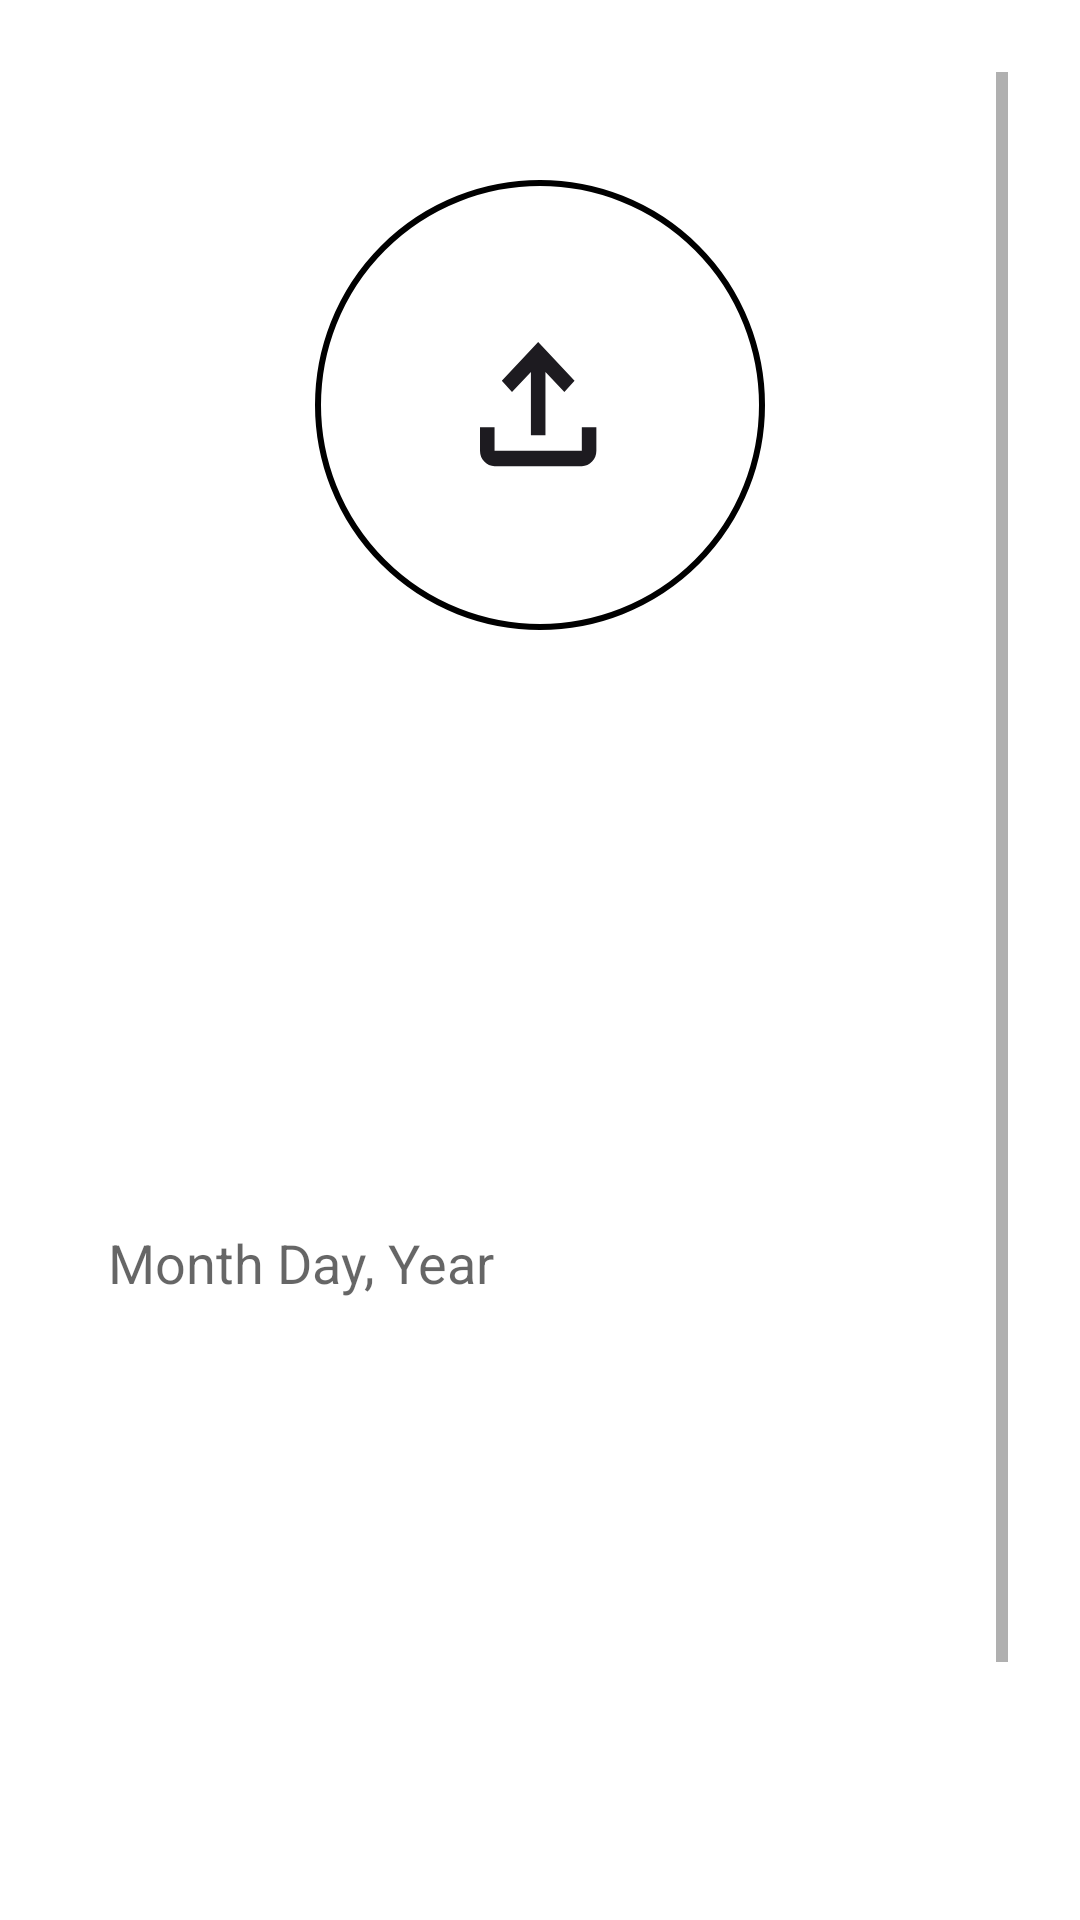

Where icons sit on this 1080×1920 app screen, as (x1, y1, x2, y2):
upload: (480, 342, 597, 467)
